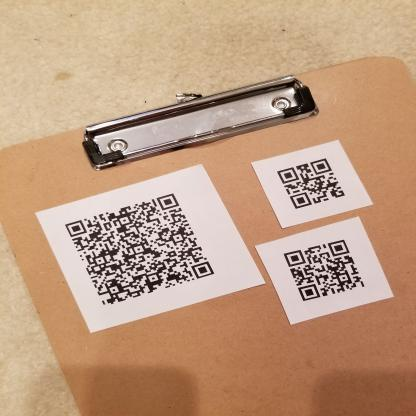qr: (62, 190, 224, 310), (278, 238, 371, 302), (274, 156, 351, 210)
